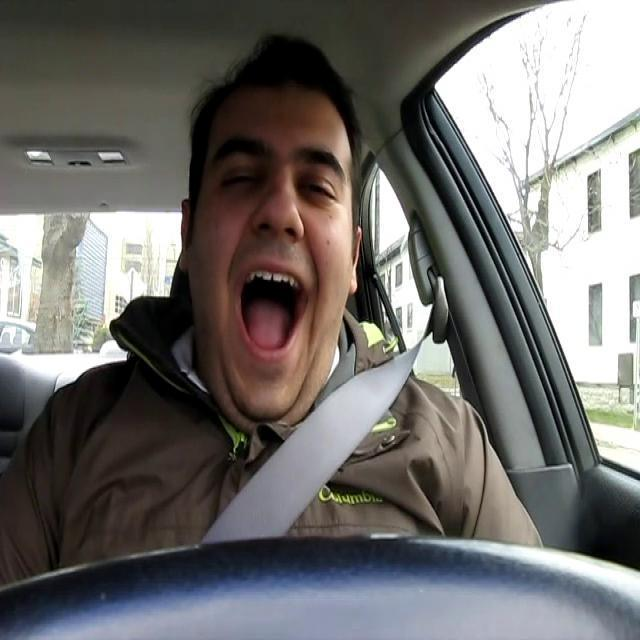open-mouth: (230, 252, 314, 370)
